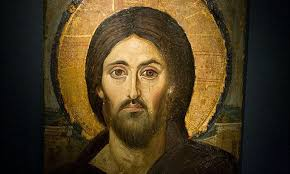No-Glasses: (100, 59, 171, 85)
